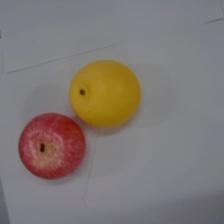red: (18, 111, 86, 180)
yellow: (68, 59, 141, 128)
